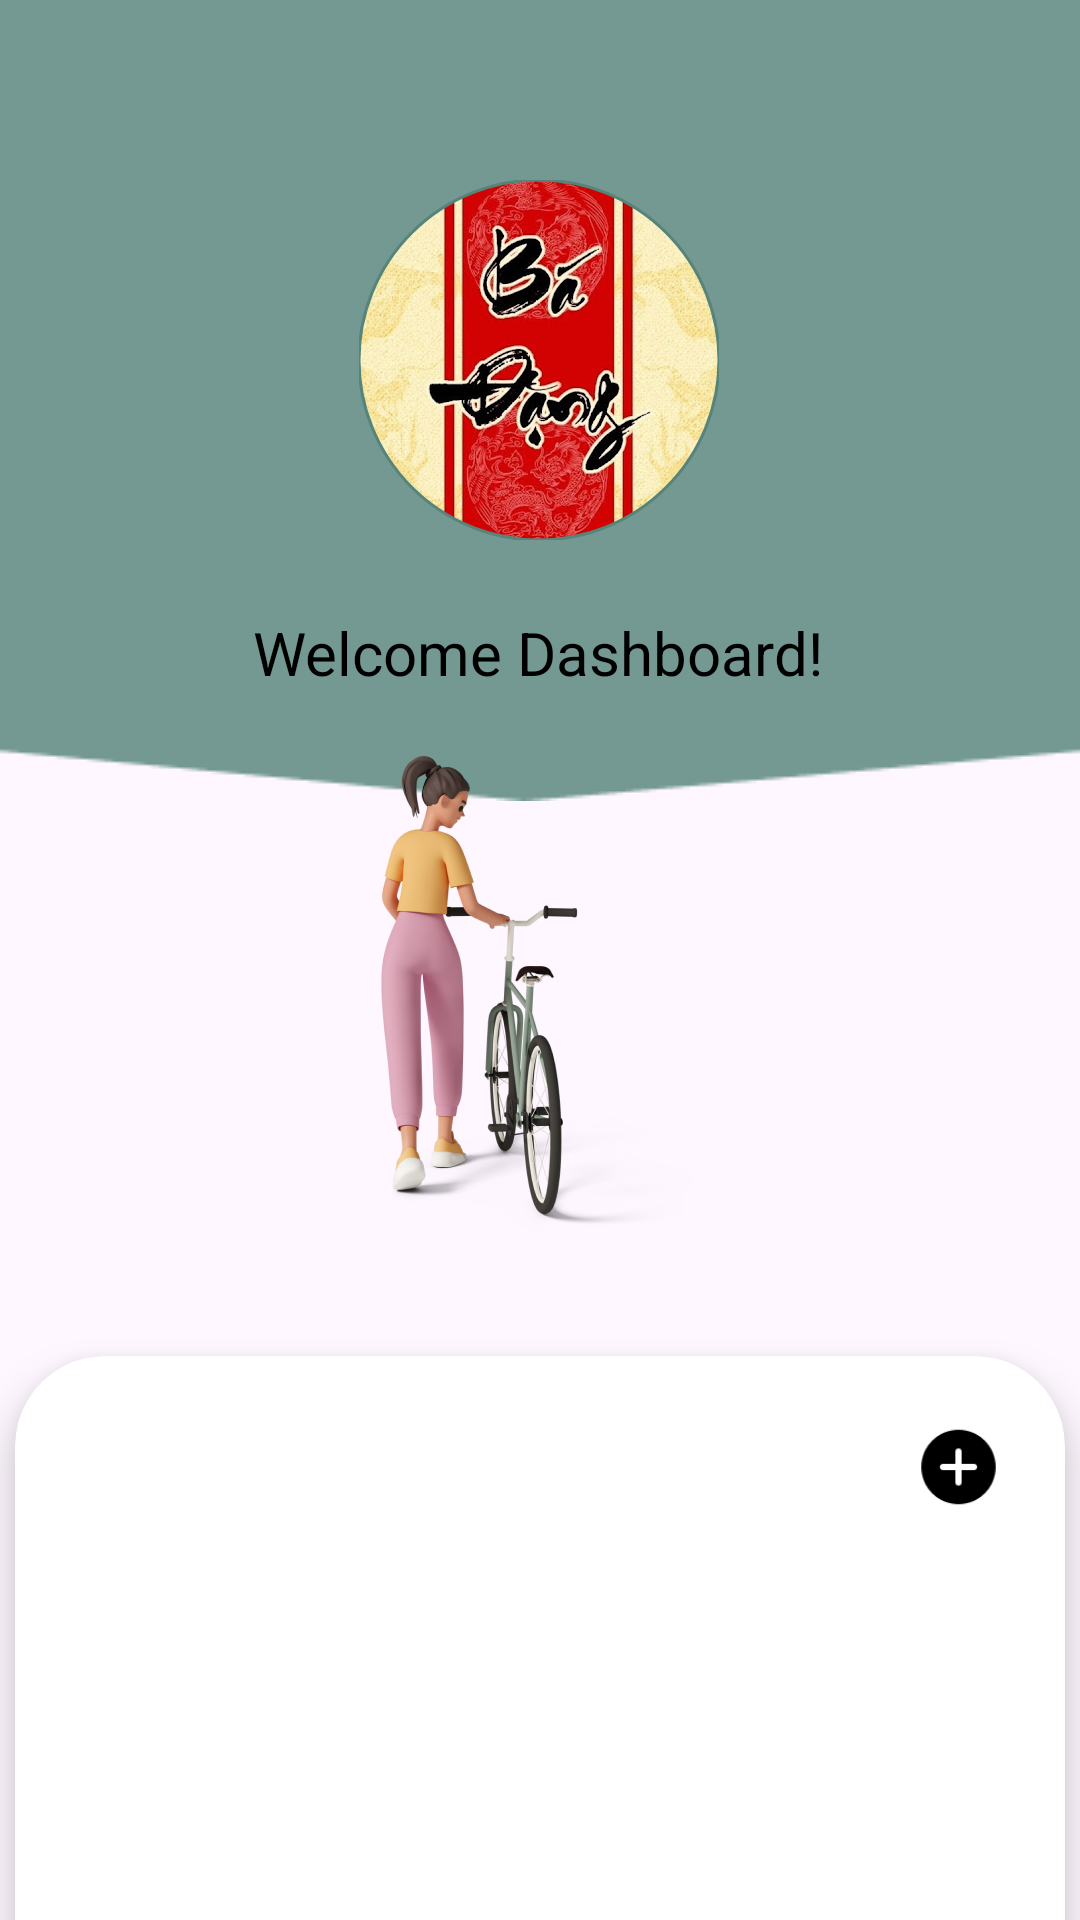

Icons on this 1080px x 1920px Android screen, each with the point to tap as (x=x, y=y):
add: (x=958, y=1467)
avt: (x=539, y=360)
